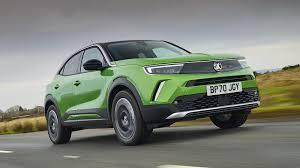opel: (211, 58, 225, 72)
